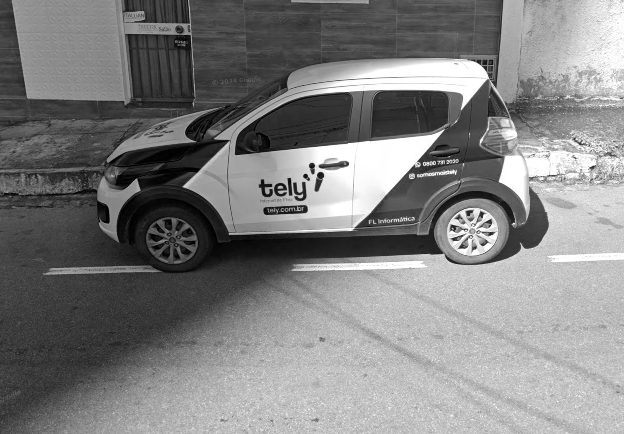car: (92, 53, 536, 275)
